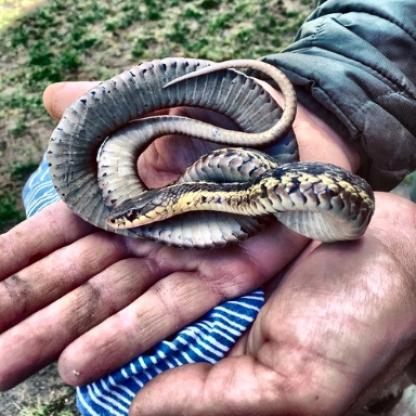Snake: (46, 54, 414, 250)
